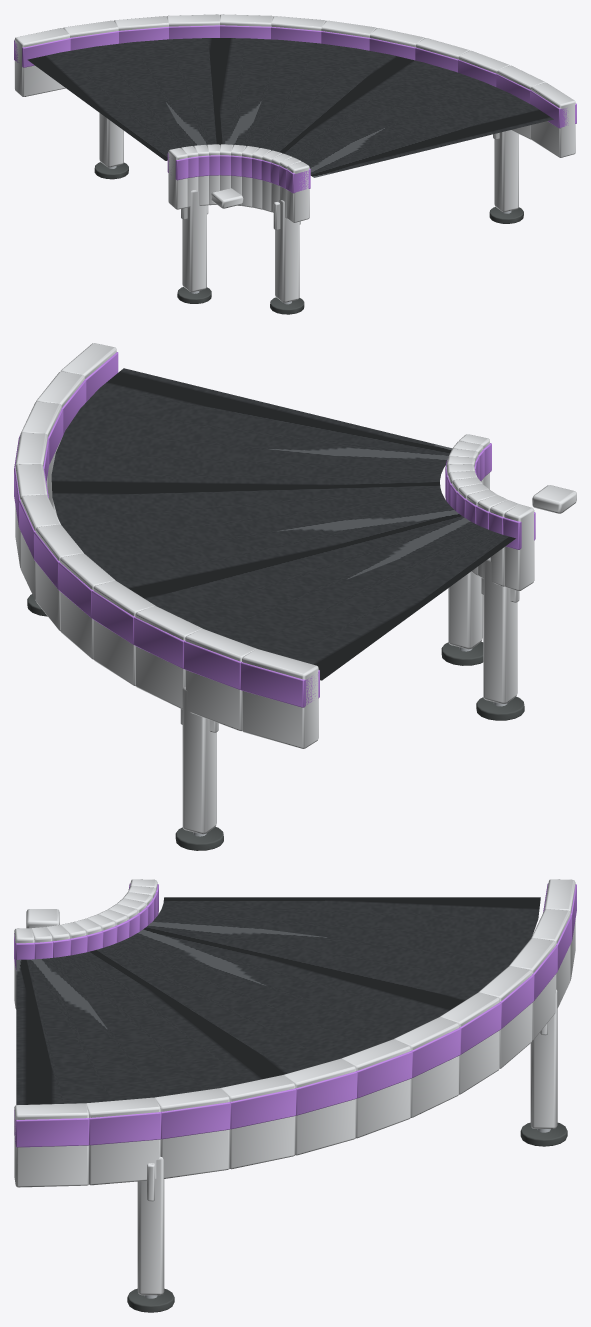
Rendered from cinta_curva_der_mk3.glb.
The picture shows the model from 3 angles, top to bottom: view 1: azimuth 30°, elevation 25°; view 2: azimuth 150°, elevation 25°; view 3: azimuth 270°, elevation 25°; orthographic projection. The views are drawn at different scales.
Parts seen in each view (by area): view 1: banda, pata_int0, pata_int1, bastidor_ext11, pata_ext1, bastidor_ext0, pata_ext0, bastidor_int11, bastidor_int0, franja_ext0, bastidor_ext10, franja_ext11 (+29 smaller); view 2: banda, bastidor_ext0, pata_int0, pata_ext0, bastidor_ext1, bastidor_ext2, bastidor_ext3, bastidor_ext4, pata_int1, franja_ext0, bastidor_int0, bastidor_ext5 (+17 smaller); view 3: banda, bastidor_ext11, bastidor_ext9, bastidor_ext10, bastidor_ext8, bastidor_ext7, bastidor_ext6, pata_ext1, bastidor_ext5, pata_ext0, bastidor_ext4, bastidor_ext3 (+16 smaller).
Part boxes in pixels (<box>): banda: <box>27,38,553,177</box>; pata_int0: <box>182,190,206,292</box>; pata_int1: <box>275,200,299,302</box>; bastidor_ext11: <box>531,82,575,157</box>; pata_ext1: <box>494,130,518,211</box>; bastidor_ext0: <box>14,28,69,96</box>; pata_ext0: <box>99,113,123,167</box>; bastidor_int11: <box>287,161,309,222</box>; bastidor_int0: <box>168,148,187,209</box>; franja_ext0: <box>14,38,70,67</box>; bastidor_ext10: <box>497,65,545,139</box>; franja_ext11: <box>530,90,576,128</box>; banda: <box>51,368,515,680</box>; bastidor_ext0: <box>242,649,318,748</box>; pata_int0: <box>483,558,517,703</box>; pata_ext0: <box>182,687,216,834</box>; bastidor_ext1: <box>185,629,256,731</box>; bastidor_ext2: <box>135,606,202,709</box>; bastidor_ext3: <box>93,580,155,686</box>; bastidor_ext4: <box>60,553,115,659</box>; pata_int1: <box>448,572,482,649</box>; franja_ext0: <box>240,662,319,707</box>; bastidor_int0: <box>504,504,534,590</box>; bastidor_ext5: <box>35,524,83,630</box>; banda: <box>16,897,540,1104</box>; bastidor_ext11: <box>14,1103,88,1187</box>; bastidor_ext9: <box>154,1088,229,1178</box>; bastidor_ext10: <box>86,1097,160,1185</box>; bastidor_ext8: <box>221,1075,295,1169</box>; bastidor_ext7: <box>283,1058,355,1155</box>; bastidor_ext6: <box>341,1039,410,1138</box>; pata_ext1: <box>137,1157,164,1295</box>; bastidor_ext5: <box>394,1017,459,1117</box>; pata_ext0: <box>530,989,557,1128</box>; bastidor_ext4: <box>440,992,499,1094</box>; bastidor_ext3: <box>478,966,532,1068</box>.
Bounding box in the file's own units: 0.837 × 0.33 × 0.837.
Materials: 5 (1 with a texture image).
